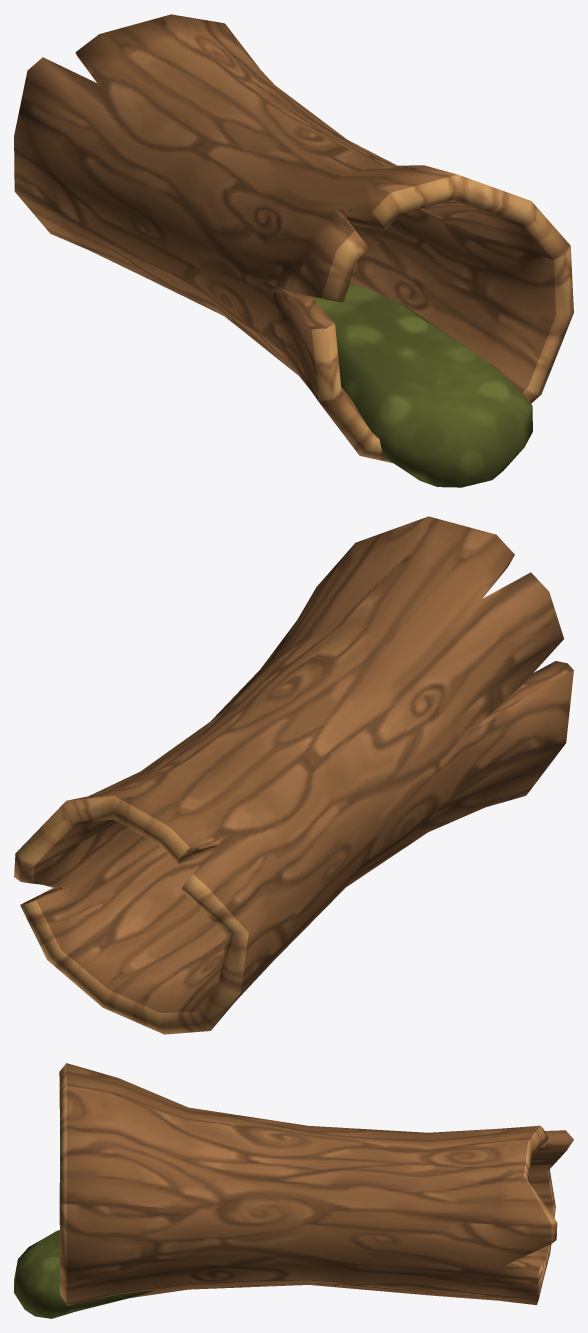
Rendered from VEG0210032.fbx.
3 views of the same model, one above another, from view 1: azimuth 30°, elevation 25°; view 2: azimuth 150°, elevation 25°; view 3: azimuth 270°, elevation 25° (orthographic). The views are drawn at different scales.
Parts seen in each view (by area): view 1: smVEG0210032; view 2: smVEG0210032; view 3: smVEG0210032.
Boxes of the visible parts, box(x1,y1,x2,y2) form: smVEG0210032: box(14, 14, 573, 487); smVEG0210032: box(14, 516, 573, 1034); smVEG0210032: box(14, 1063, 573, 1318).
Size of the model in its own units: 80.14 by 83.86 by 194.
1 material, 1 textured.
